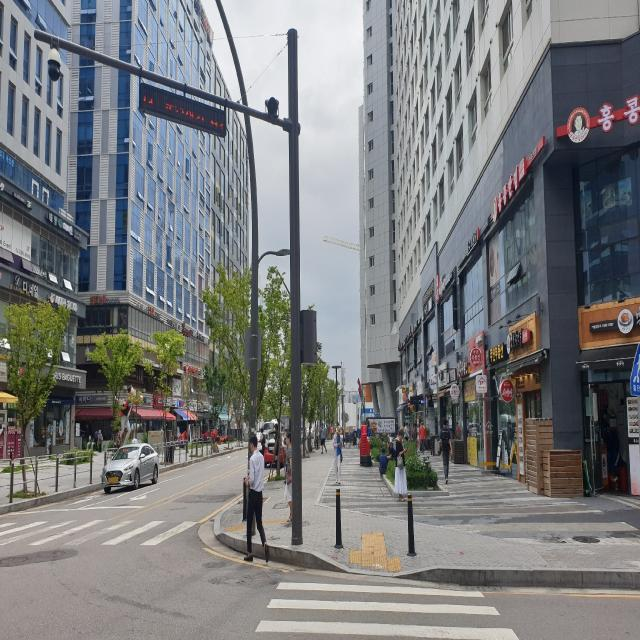횡단보도: (253, 580, 521, 640), (0, 505, 202, 554)
